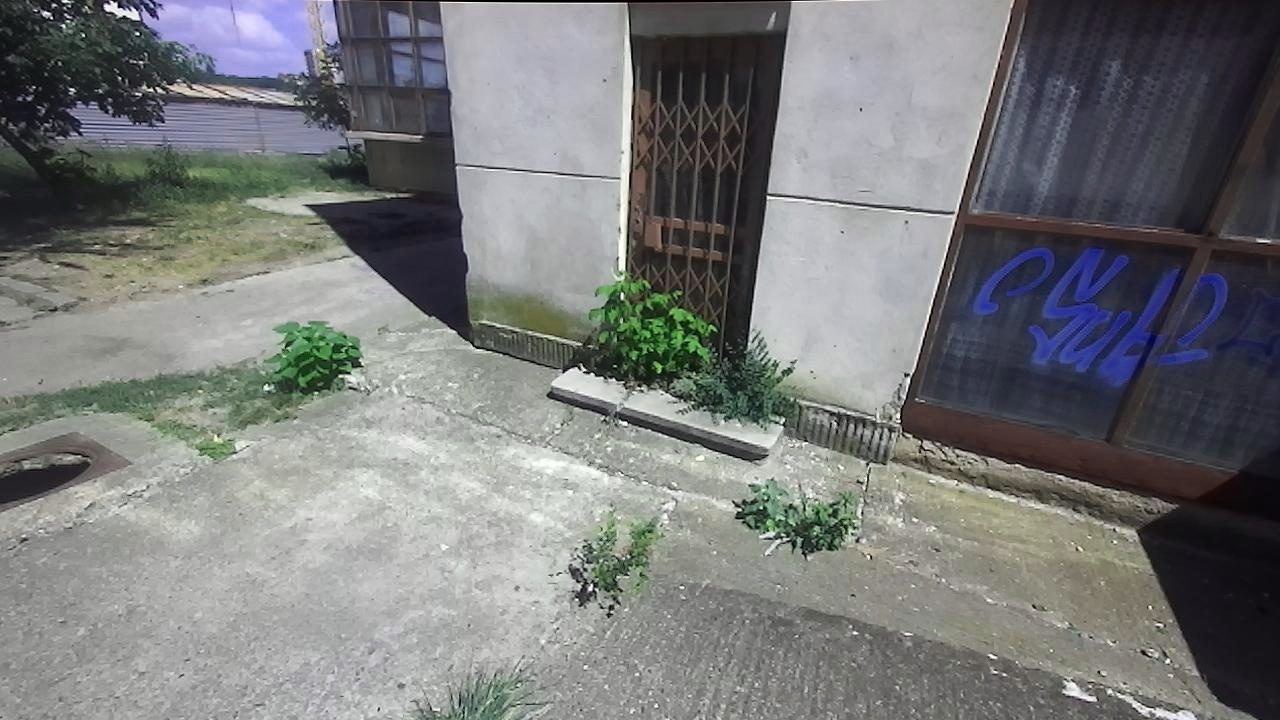drain: (0, 441, 108, 505)
